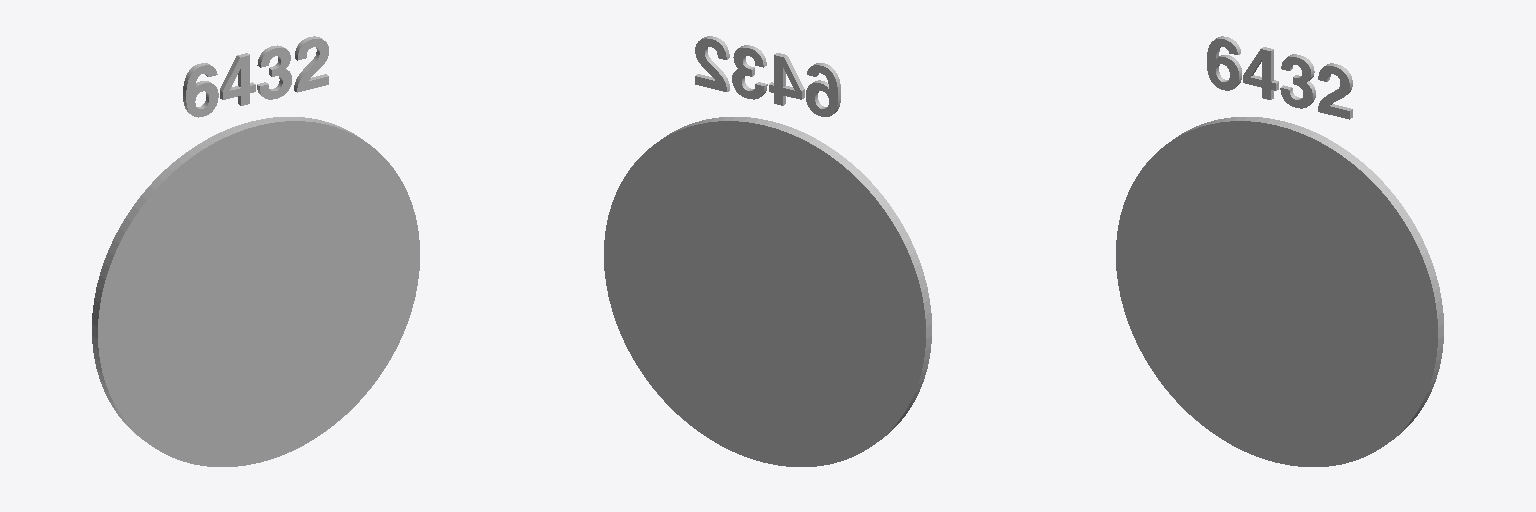
The model's file is TAZO_CODIGO_6432.obj.
3 renders of one model, left to right at view 1: azimuth 30°, elevation 25°; view 2: azimuth 150°, elevation 25°; view 3: azimuth 330°, elevation 25°, orthographic.
Parts seen in each view (by area): view 1: CARA_FRONTAL, 6432, EXTRUDE; view 2: CARA_TRASERA, 6432, EXTRUDE; view 3: CARA_FRONTAL, 6432, EXTRUDE.
Boxes of the visible parts, <box> form: CARA_FRONTAL: <box>98,121,419,466</box>; 6432: <box>183,36,328,117</box>; EXTRUDE: <box>92,117,362,439</box>; CARA_TRASERA: <box>604,121,925,466</box>; 6432: <box>695,36,840,116</box>; EXTRUDE: <box>661,117,931,439</box>; CARA_FRONTAL: <box>1116,121,1437,466</box>; 6432: <box>1207,36,1352,119</box>; EXTRUDE: <box>1173,117,1443,439</box>.
Bounding box in the file's own units: 3002 × 3645 × 98.07.